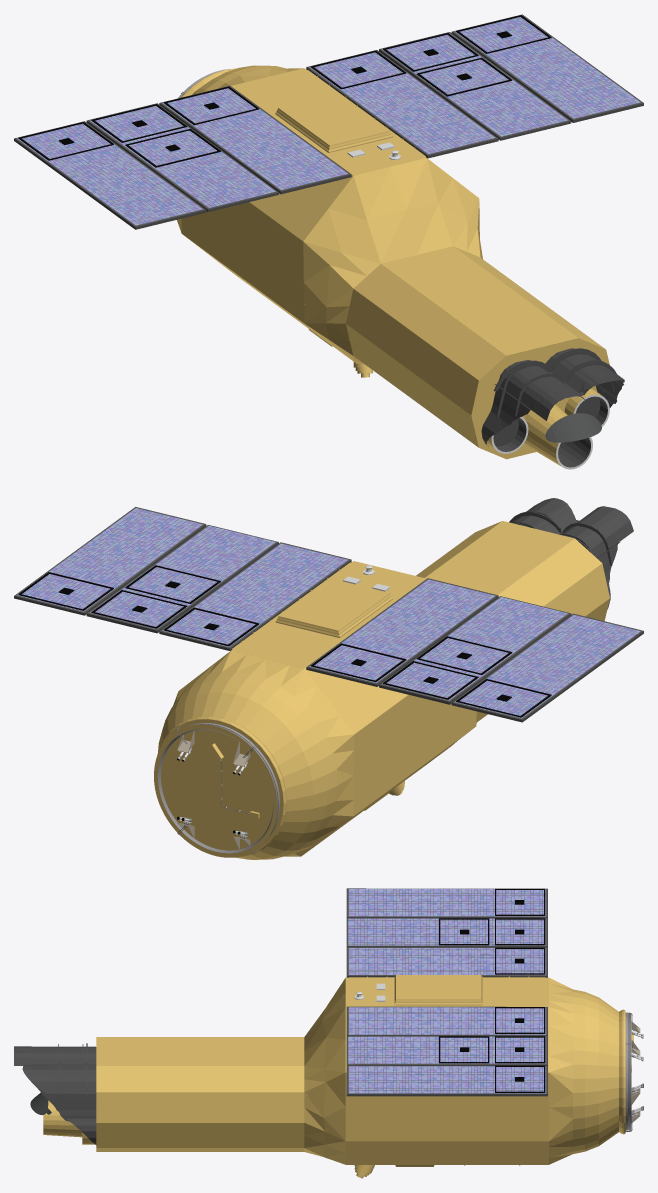
Rendered from Suzaku.glb.
The picture shows the model from 3 angles, top to bottom: view 1: azimuth 30°, elevation 25°; view 2: azimuth 150°, elevation 25°; view 3: azimuth 270°, elevation 25°; orthographic projection. The views are drawn at different scales.
Parts seen in each view (by area): view 1: Layer_0; view 2: Layer_0; view 3: Layer_0.
Boxes of the visible parts, x1,y1,x2,y2 form: Layer_0: (14,14,643,469); Layer_0: (14,498,643,859); Layer_0: (14,888,643,1178).
Bounding box in the file's own units: 5.22 × 2.16 × 6.75.
